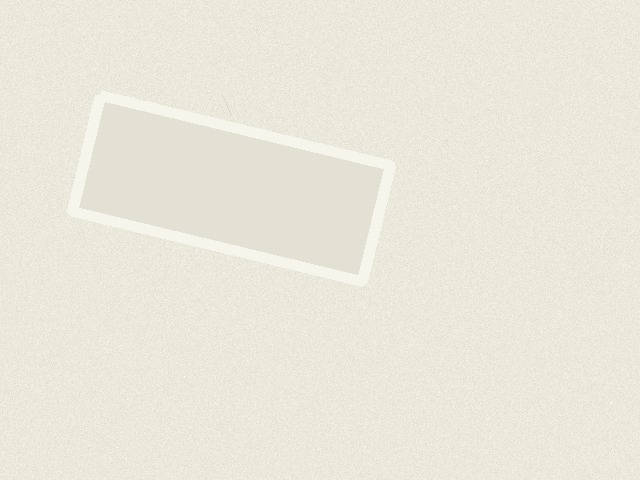parking_area: (72, 95, 390, 281)
